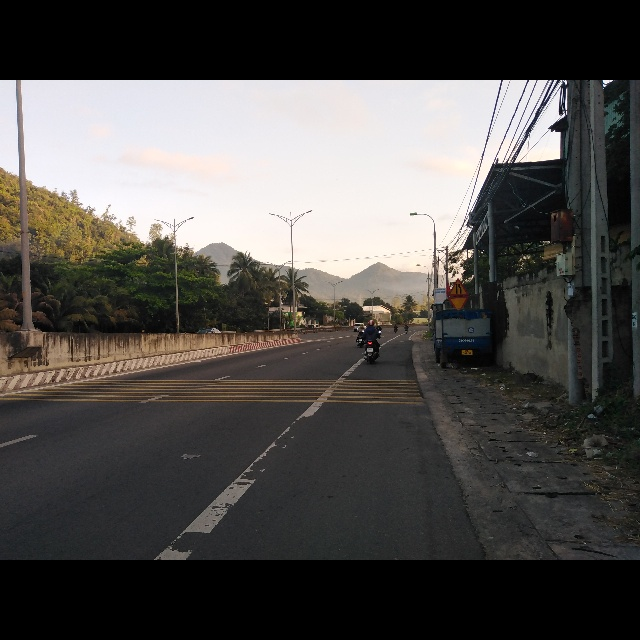Giao nhau với đường ưu tiên: (448, 296, 468, 311)
Đường bị hẹp bên phải: (448, 278, 468, 296)
